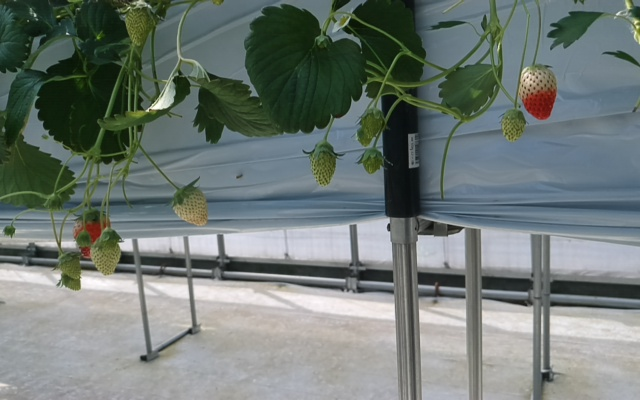GreenStrawberry: (516, 64, 559, 123), (170, 186, 211, 227), (122, 1, 155, 49), (306, 141, 337, 188), (354, 108, 387, 149), (90, 235, 121, 277), (500, 108, 527, 145), (59, 254, 83, 292), (361, 149, 383, 176)
MatureStrawberry: (71, 208, 111, 257)
